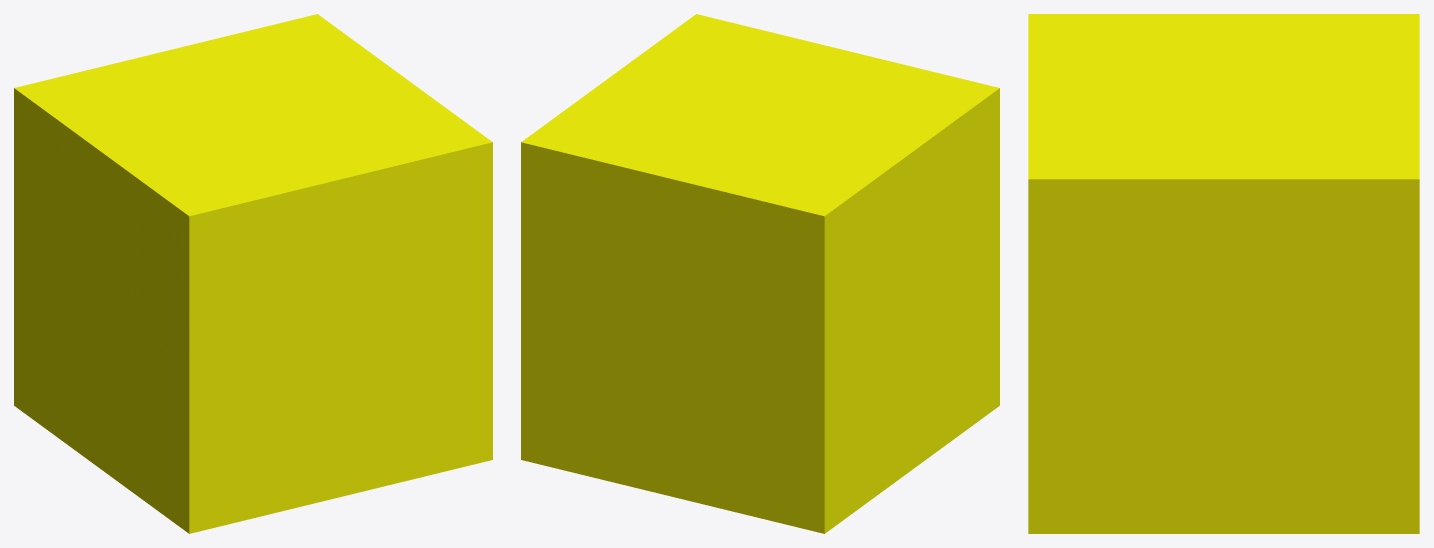
The model's file is Block_WoodPlanks.glb.
3 renders of one model, left to right at view 1: azimuth 30°, elevation 25°; view 2: azimuth 150°, elevation 25°; view 3: azimuth 270°, elevation 25°, orthographic. The views are drawn at different scales.
Parts seen in each view (by area): view 1: Block_WoodPlanks; view 2: Block_WoodPlanks; view 3: Block_WoodPlanks.
Part boxes in pixels (box(x1,y1,x2,y2)): Block_WoodPlanks: box(14, 14, 492, 533); Block_WoodPlanks: box(521, 14, 999, 533); Block_WoodPlanks: box(1028, 14, 1419, 533).
Bounding box in the file's own units: 2 × 2 × 2.
Materials: 1 (1 with a texture image).
